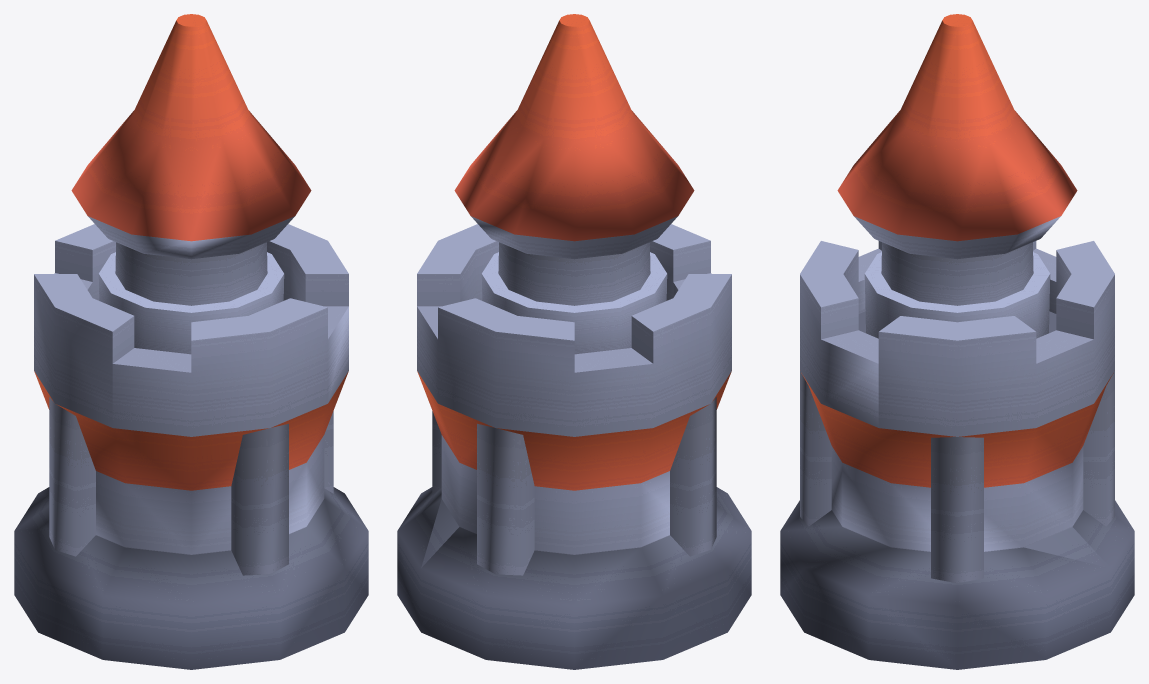
File: tower-round-build-d.glb
3 renders of one model, left to right at view 1: azimuth 30°, elevation 25°; view 2: azimuth 150°, elevation 25°; view 3: azimuth 270°, elevation 25°, orthographic.
Visible parts, largest first — view 1: tower-round-build-d; view 2: tower-round-build-d; view 3: tower-round-build-d.
Part boxes in pixels (bbox=[...]): tower-round-build-d: bbox=[14, 14, 368, 669]; tower-round-build-d: bbox=[397, 14, 751, 669]; tower-round-build-d: bbox=[780, 14, 1134, 669].
Bounding box in the file's own units: 1 × 1.79 × 1.
Materials: 1 (1 with a texture image).
